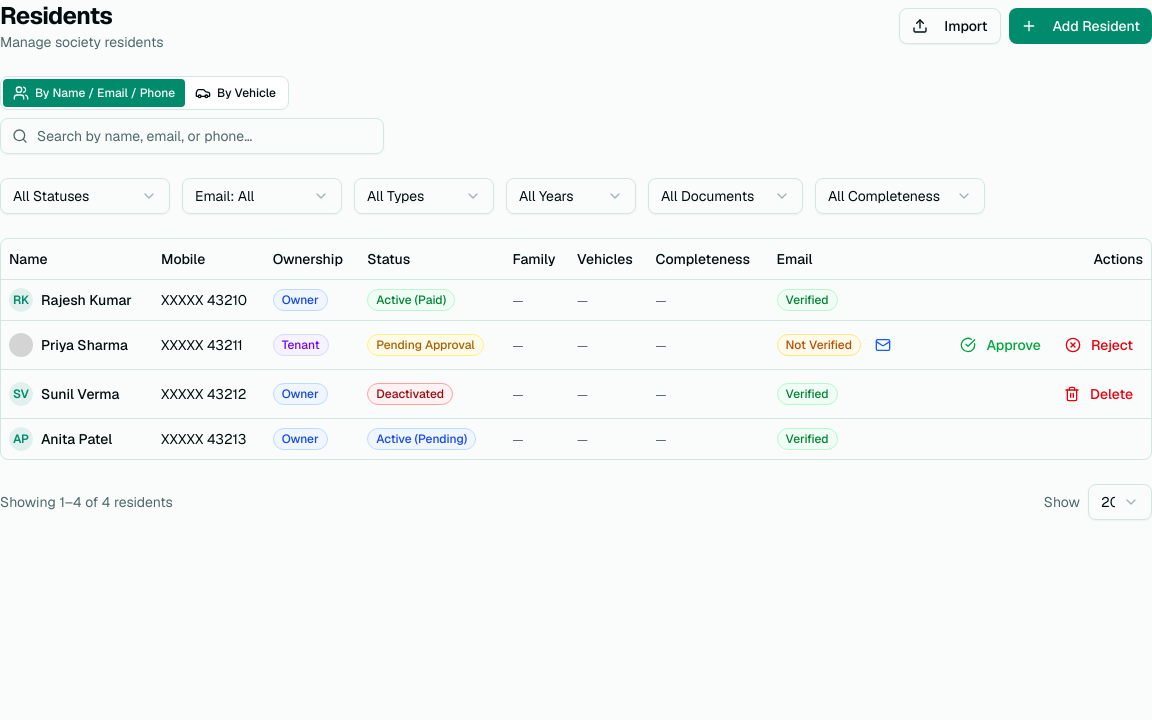
Scenario: AdminResidentsPage › opens reject dialog and requires reason
Click the button "Reject" at (1099, 344), box x1=1055 y1=328 x2=1143 y2=360
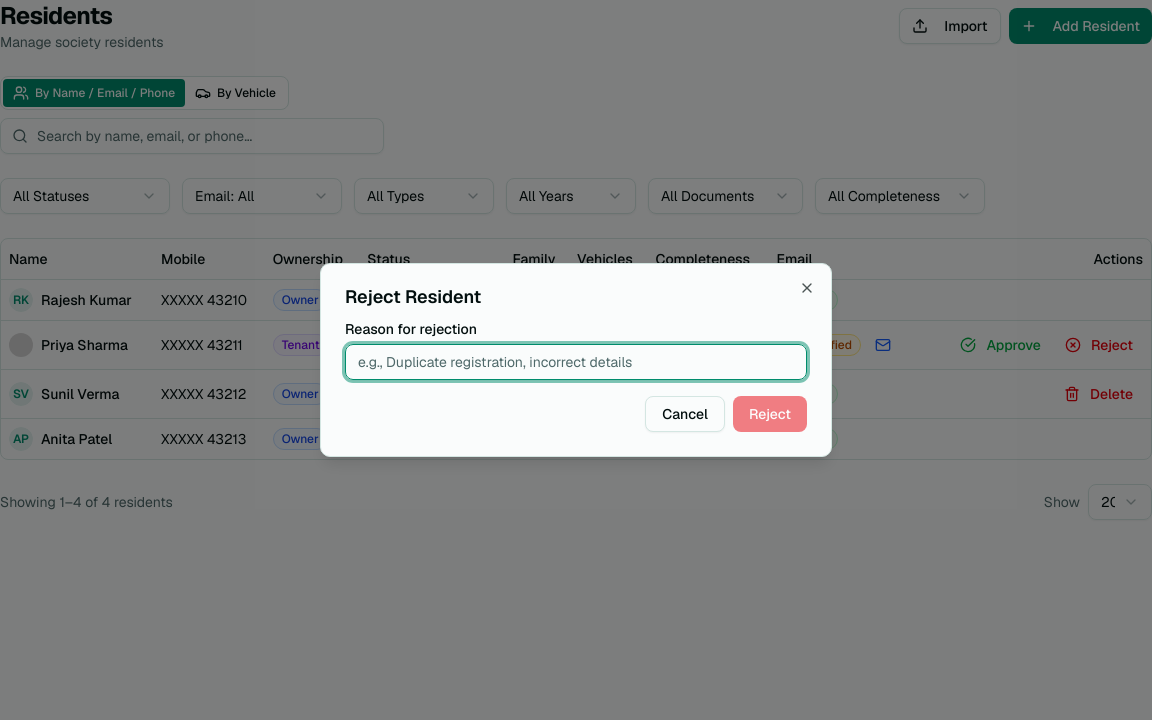
Check: the heading "Reject Resident" is shown, box x1=345 y1=285 x2=481 y2=308
Check: the field with placeholder "e.g., Duplicate registration, incorrect details" is shown, box x1=345 y1=344 x2=807 y2=380
Check: the button "Reject" is disabled, box x1=733 y1=396 x2=807 y2=432
